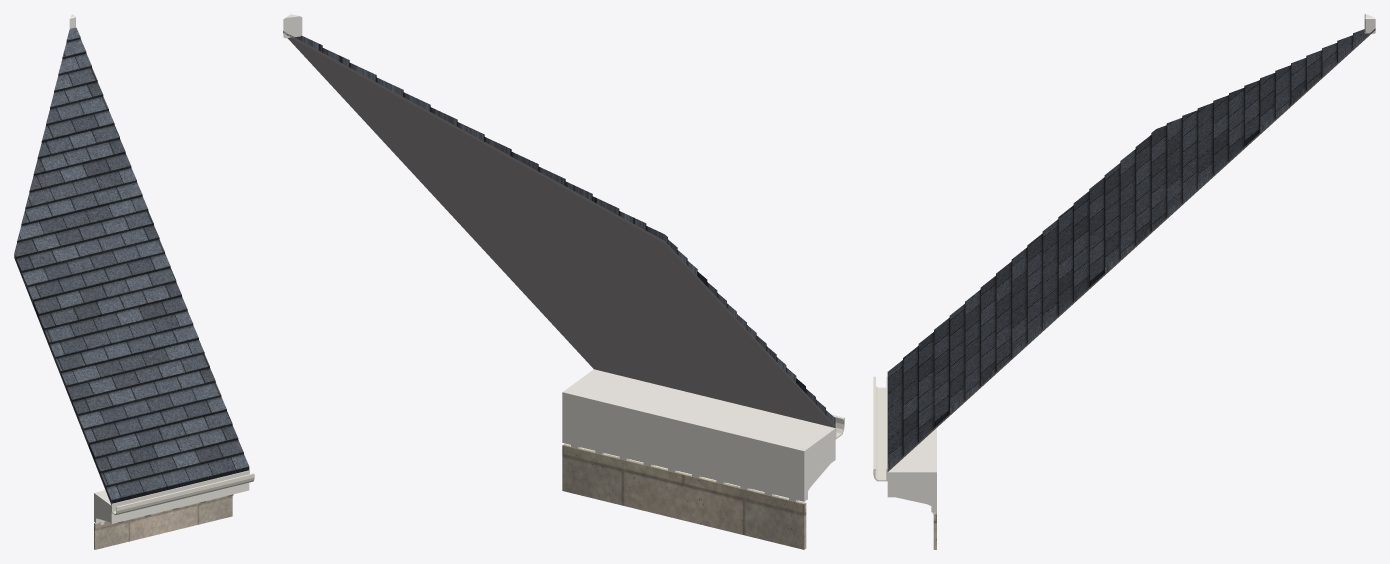
File: roof_l3.glb
The picture shows the model from 3 angles, left to right: view 1: azimuth 30°, elevation 25°; view 2: azimuth 150°, elevation 25°; view 3: azimuth 270°, elevation 25°; orthographic projection. The views are drawn at different scales.
Visible parts, largest first — view 1: roof_l3_shingles, roof_l3_stone_t, roof_l3_trim, roof_l3_gutter, roof_l3_dark; view 2: roof_l3_dark, roof_l3_trim, roof_l3_stone_t, roof_l3_shingles; view 3: roof_l3_shingles, roof_l3_trim, roof_l3_gutter, roof_l3_dark.
Part boxes in pixels (x1=…): roof_l3_shingles: x1=14, y1=27, x2=249, y2=503; roof_l3_stone_t: x1=94, y1=495, x2=232, y2=549; roof_l3_trim: x1=69, y1=14, x2=249, y2=525; roof_l3_gutter: x1=111, y1=470, x2=254, y2=515; roof_l3_dark: x1=14, y1=257, x2=111, y2=504; roof_l3_dark: x1=283, y1=31, x2=835, y2=427; roof_l3_trim: x1=283, y1=14, x2=835, y2=501; roof_l3_stone_t: x1=562, y1=444, x2=806, y2=549; roof_l3_shingles: x1=295, y1=35, x2=835, y2=424; roof_l3_shingles: x1=887, y1=29, x2=1364, y2=469; roof_l3_trim: x1=887, y1=14, x2=1375, y2=513; roof_l3_gutter: x1=873, y1=376, x2=887, y2=481; roof_l3_dark: x1=887, y1=28, x2=1375, y2=471.
Bounding box in the file's own units: 2 × 5.35 × 4.58.
Materials: 5 (2 with a texture image).
